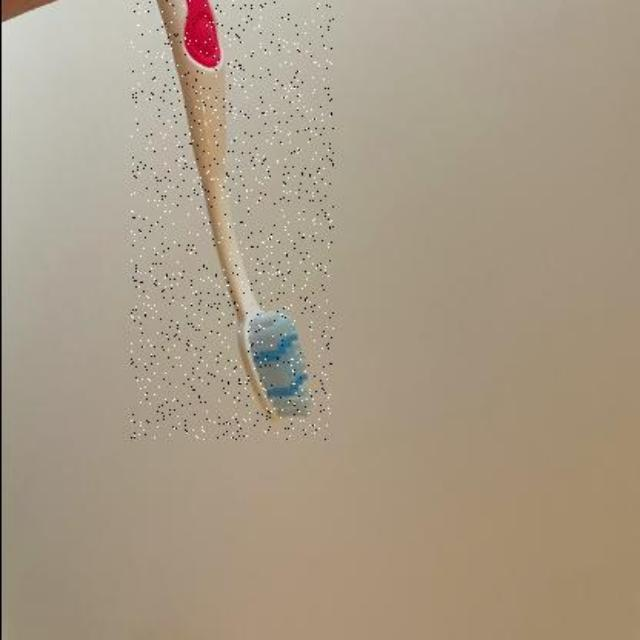toothbrush: (130, 0, 332, 440)
